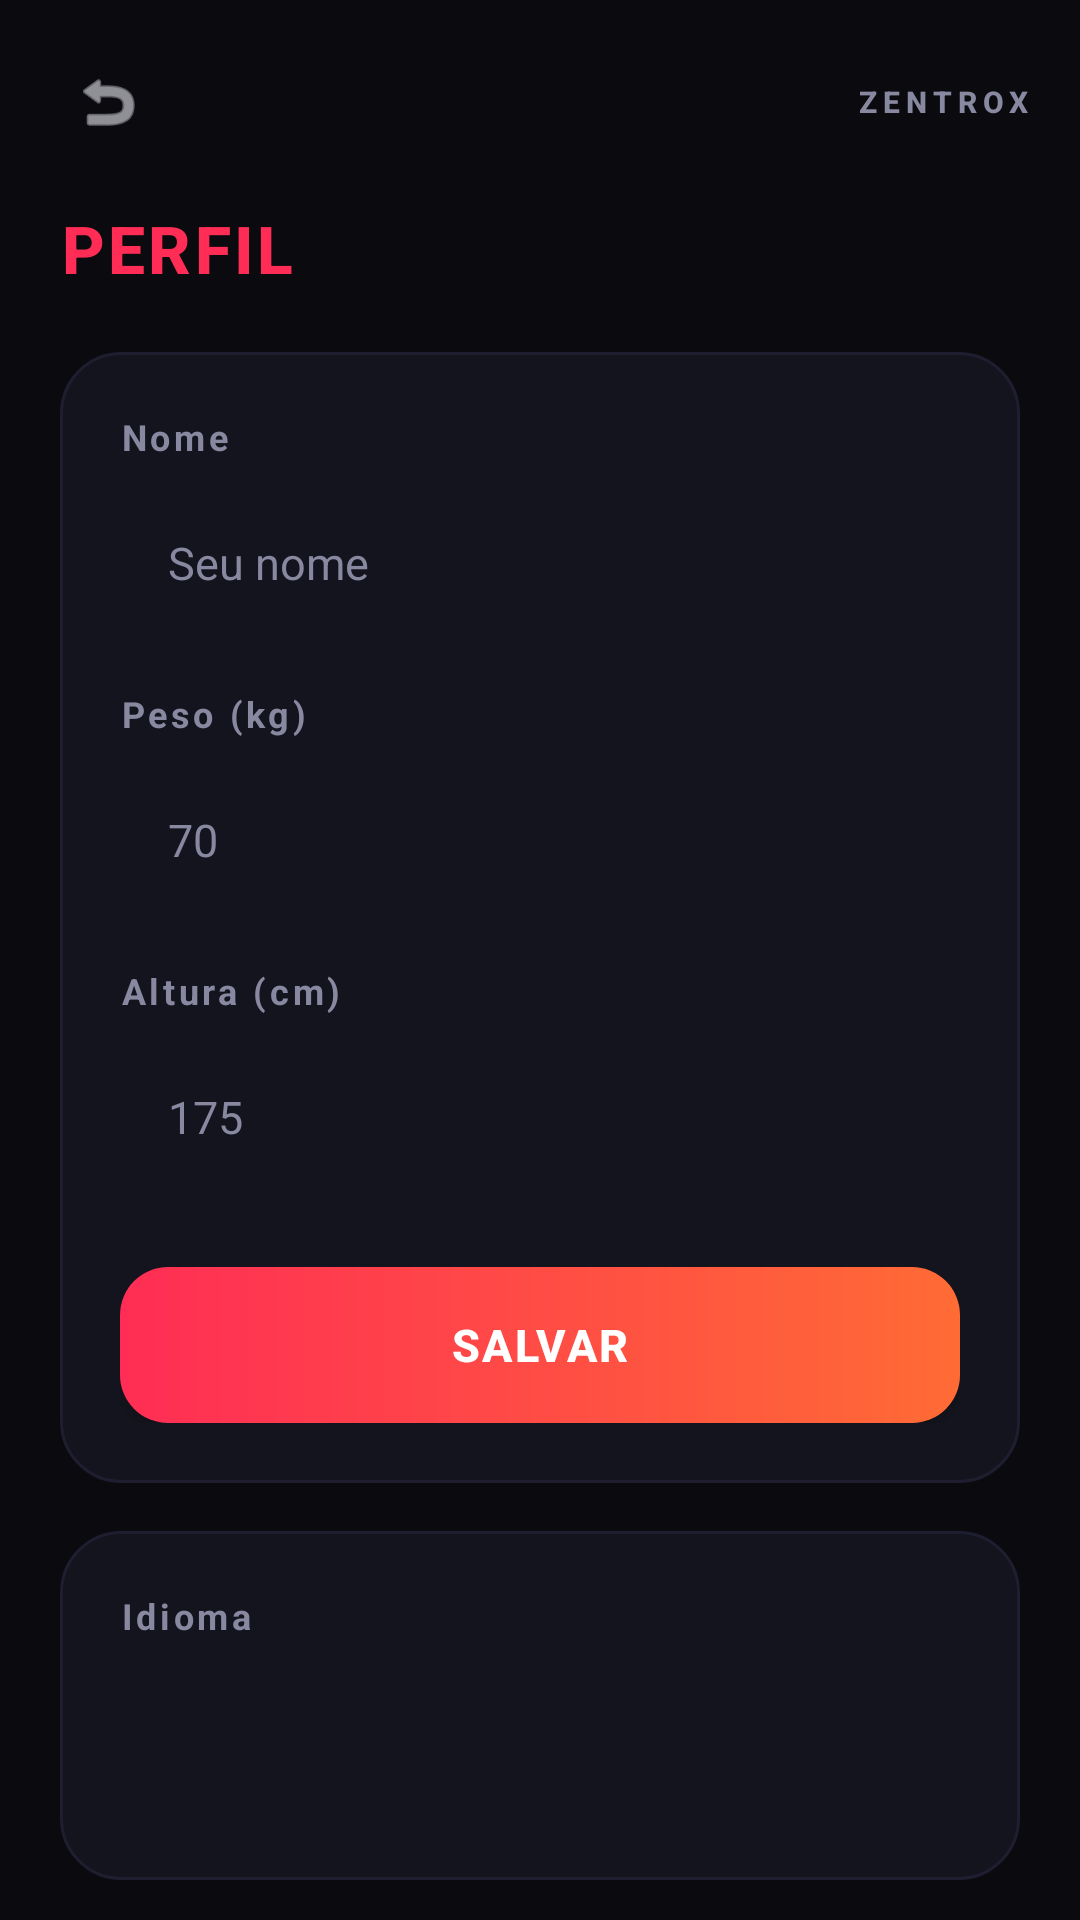

Locate icon controls on the screen. Image size 1080*1920, boxes as {"x1": x1, "y1": y1, "x2": x2, "y2": y2}.
Voltar: {"x1": 83, "y1": 79, "x2": 135, "y2": 126}
